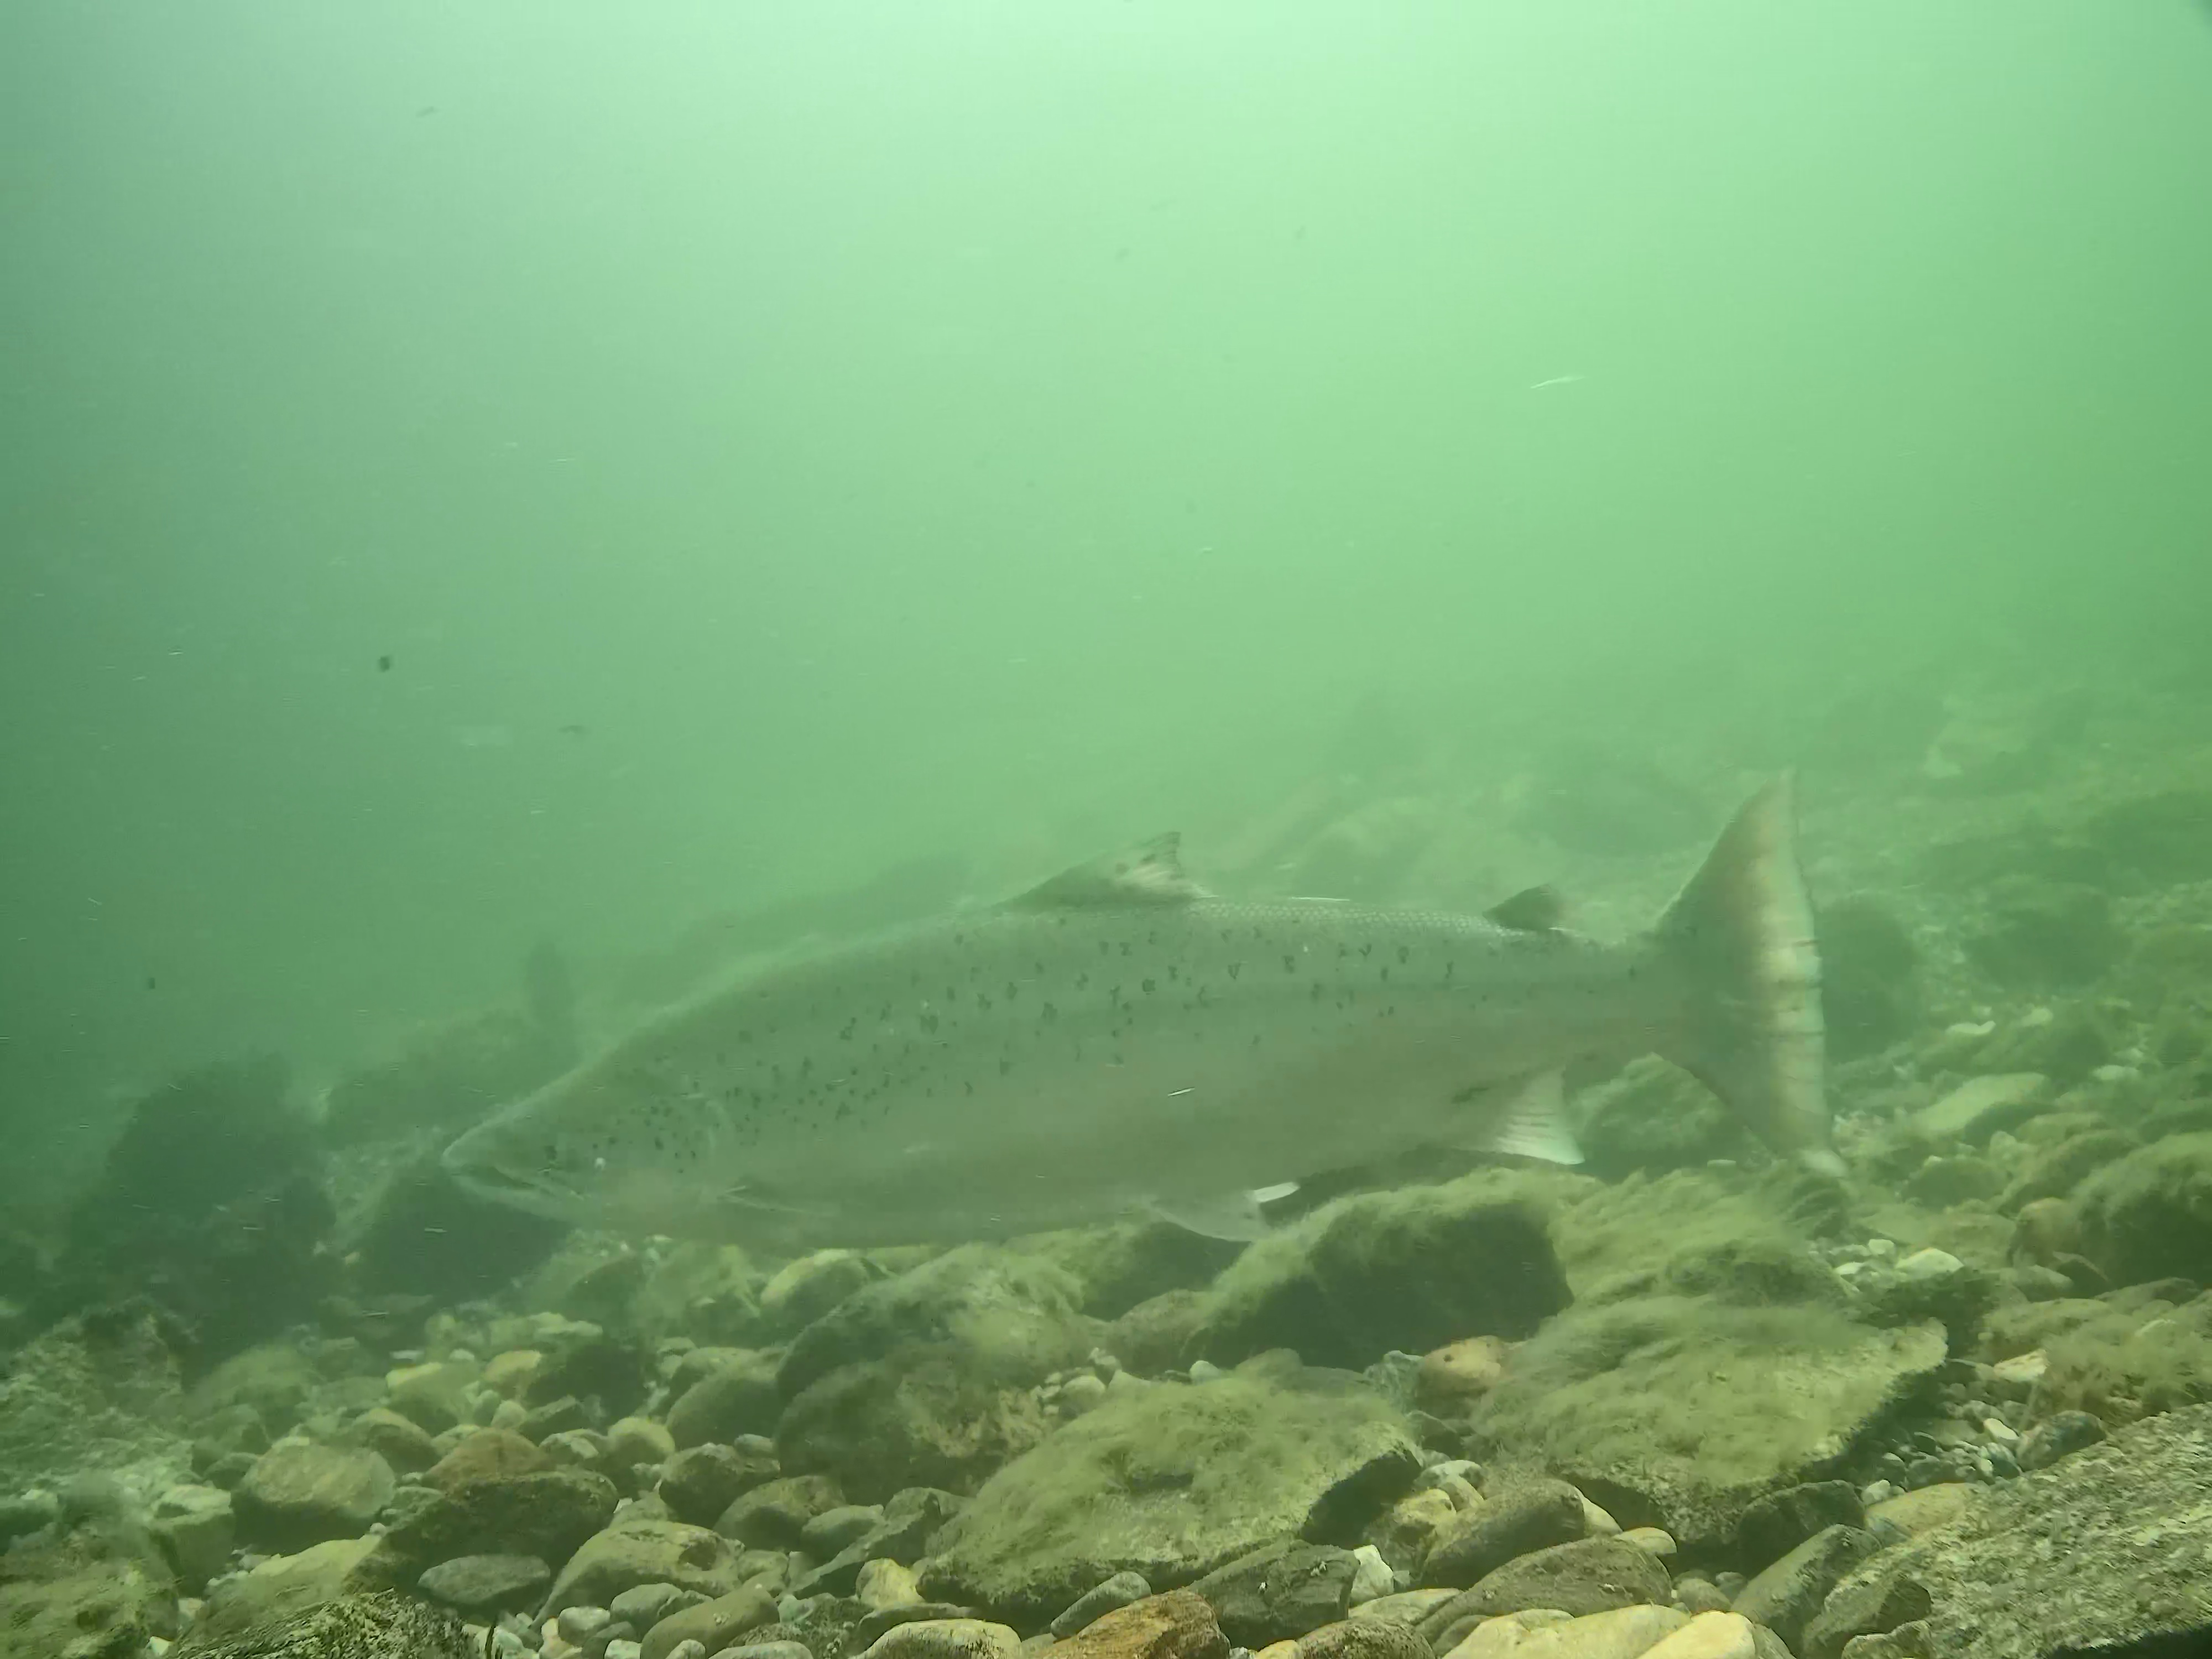salmon: (437, 758, 1862, 1262)
